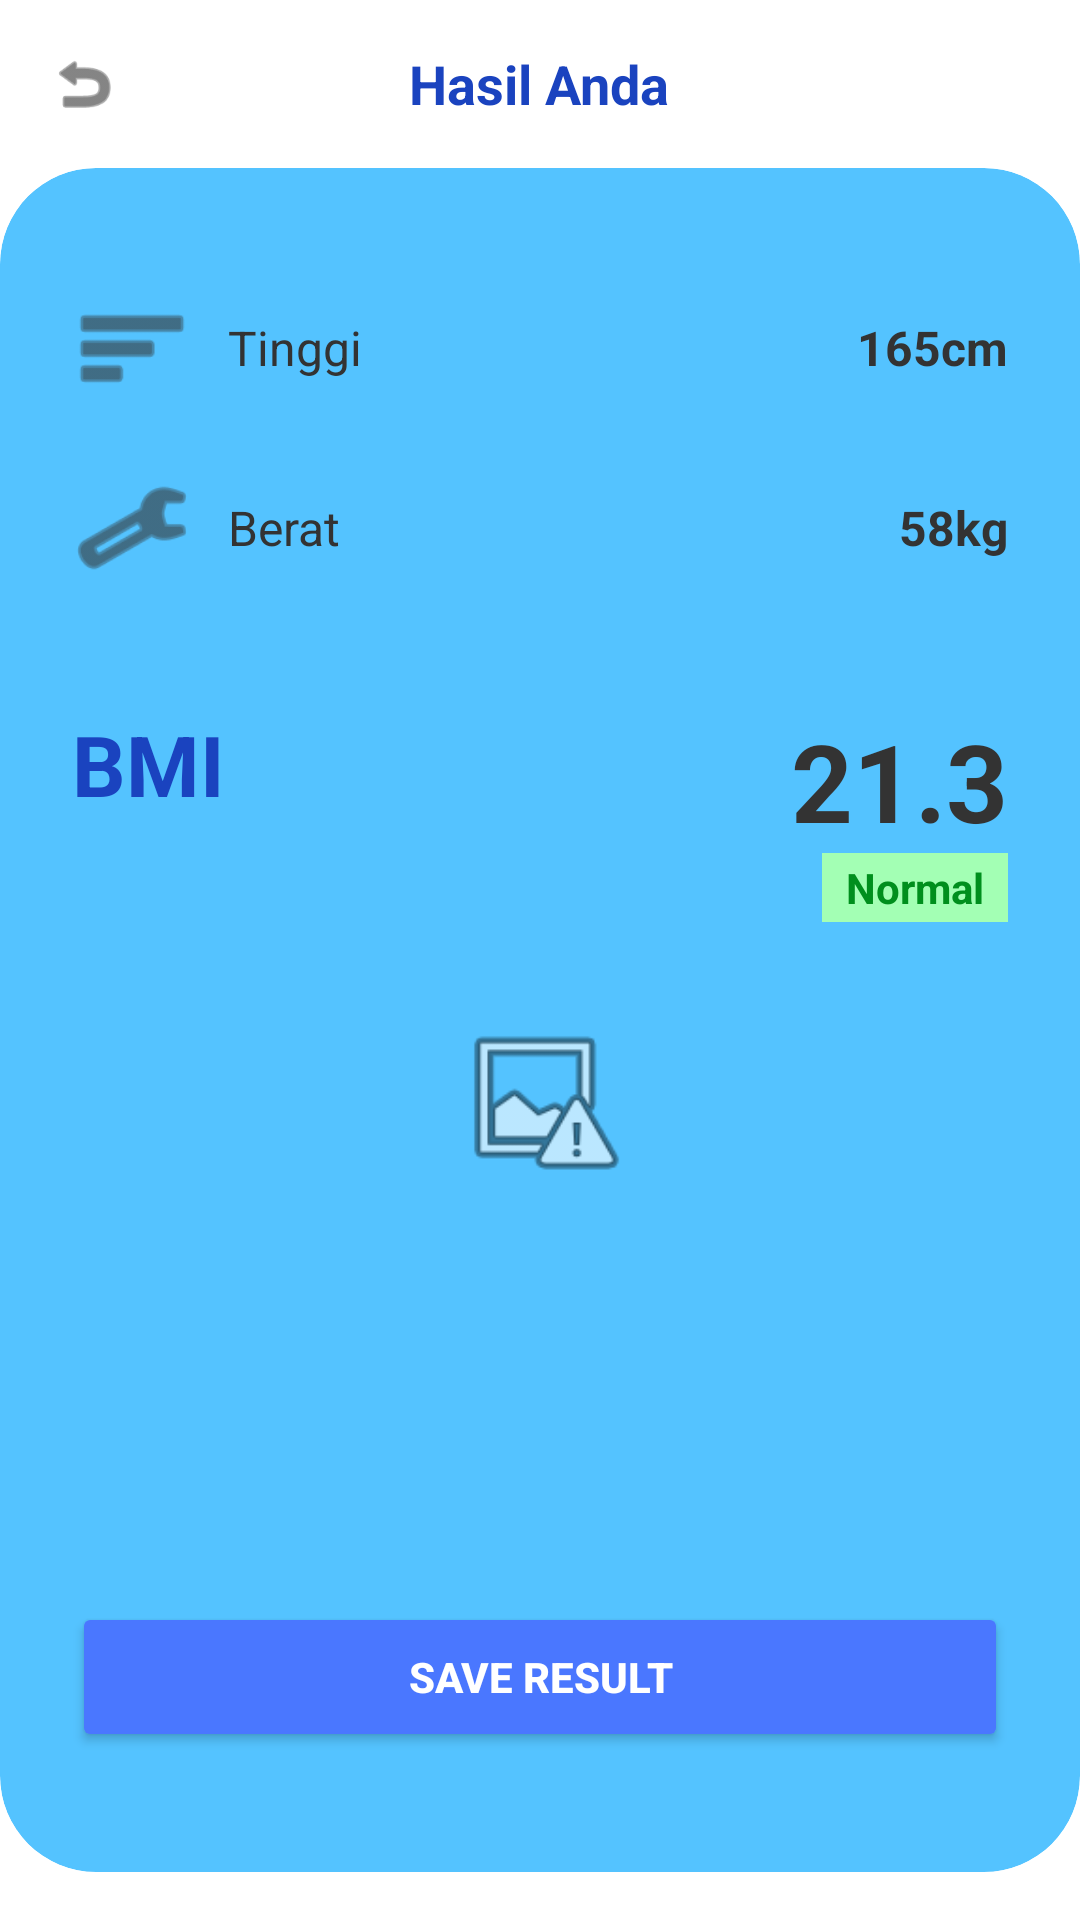

Icon click points for this 1080px x 1920px phone screenshot, format point (x, y):
manage: point (132, 528)
revert: point (85, 84)
sort by size: point (132, 348)
